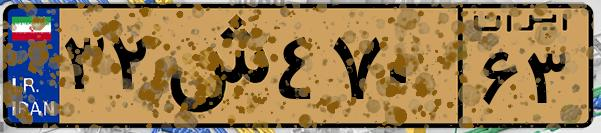0: (385, 28, 445, 110)
2: (110, 28, 158, 98)
3: (57, 26, 110, 100), (525, 38, 570, 115)
4: (270, 28, 330, 110)
6: (475, 38, 525, 113)
7: (330, 28, 385, 110)
ش: (158, 12, 270, 120)
